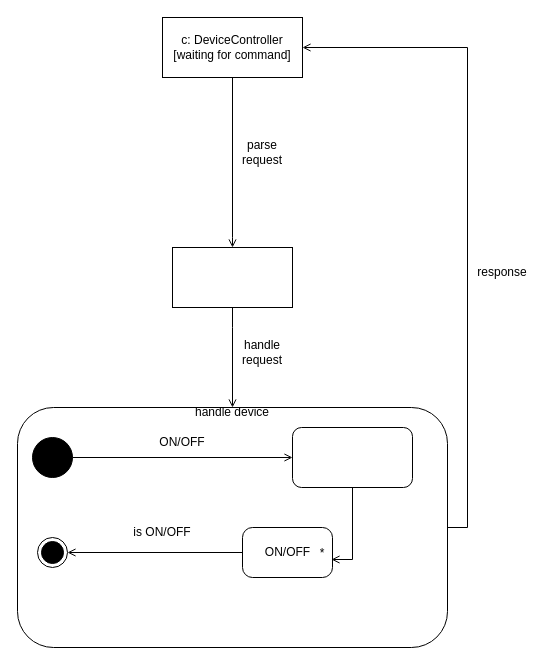
The diagram is 550 pixels wide and 665 high, and some of its shapes have lost their labels. The box of each missing label's shape, as (x1, y1, x2, y2) in pixels:
c: Request: (172, 246, 292, 308)
handling: (292, 426, 412, 488)
